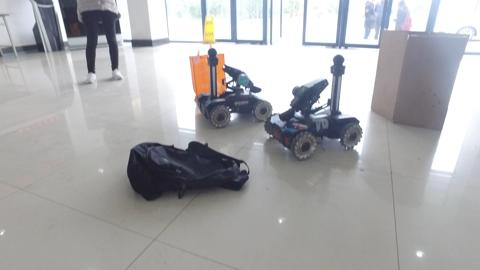bag: (129, 139, 252, 199)
box: (380, 30, 463, 130)
chariot: (269, 54, 364, 162), (197, 47, 272, 127)
